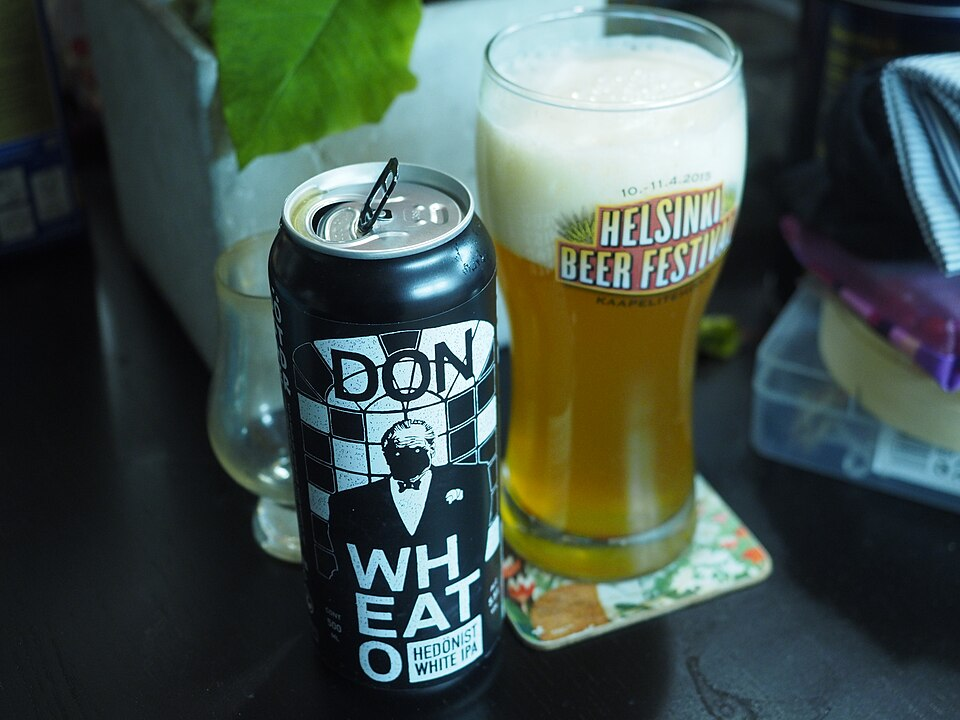beer-can: (267, 130, 509, 710)
